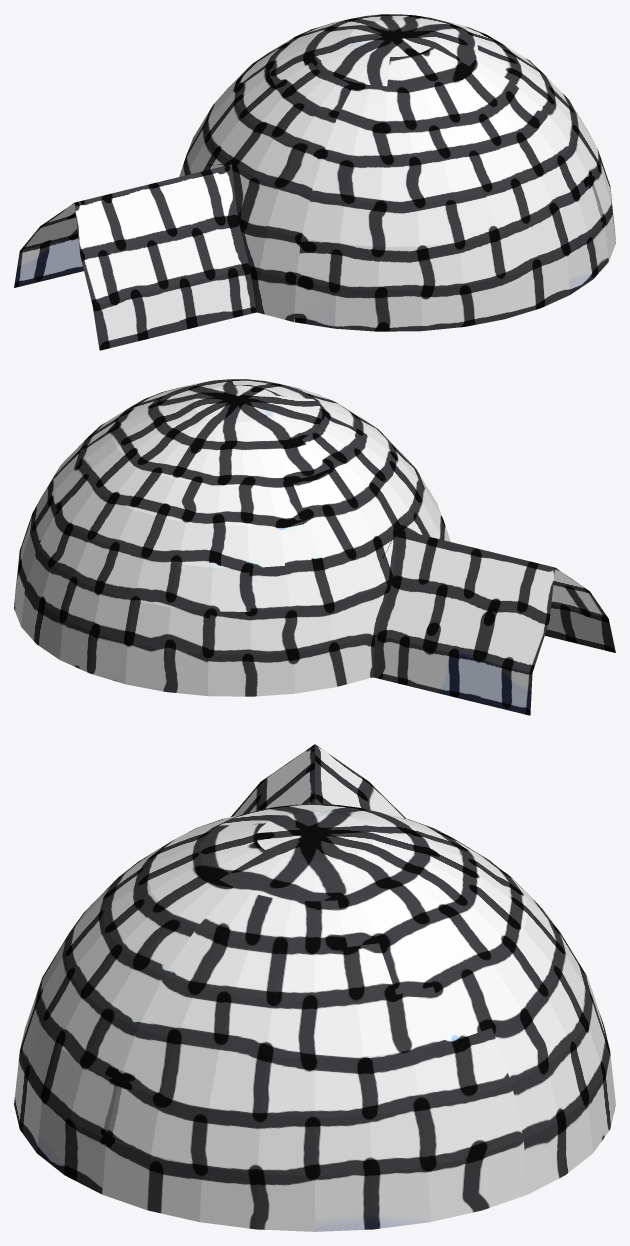
Rendered from Igloo.fbx.
The picture shows the model from 3 angles, top to bottom: view 1: azimuth 30°, elevation 25°; view 2: azimuth 150°, elevation 25°; view 3: azimuth 270°, elevation 25°; orthographic projection. The views are drawn at different scales.
Visible parts, largest first — view 1: Sphere; view 2: Sphere; view 3: Sphere.
Boxes of the visible parts, x1,y1,x2,y2 form: Sphere: (14,14,615,350); Sphere: (14,379,615,715); Sphere: (14,744,615,1231).
Size of the model in its own units: 898 by 328 by 657.
